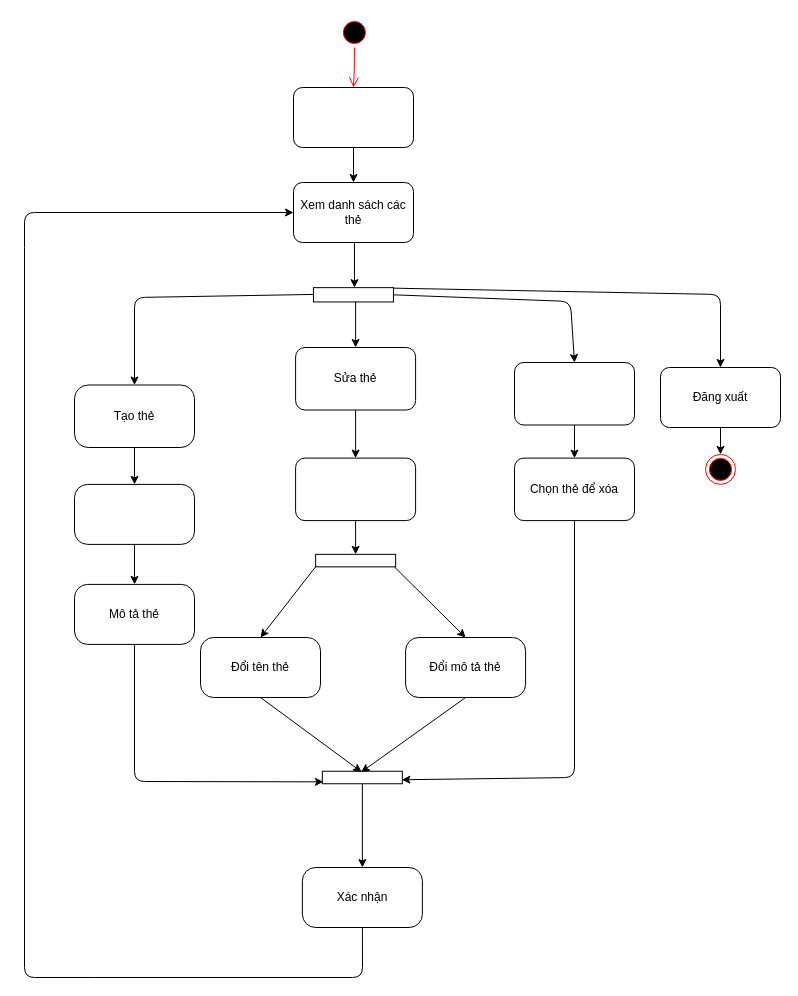
This 798x996 diagram has some shape labels left out. The shapes that lost their labels are listed below. From the top down, each one's centre as x and y in pixels, then its label:
the point at 353,117: Đăng nhập
the point at 574,393: Xóa thẻ
the point at 355,489: Chọn thẻ để sửa
the point at 134,513: Đặt tên thẻ
